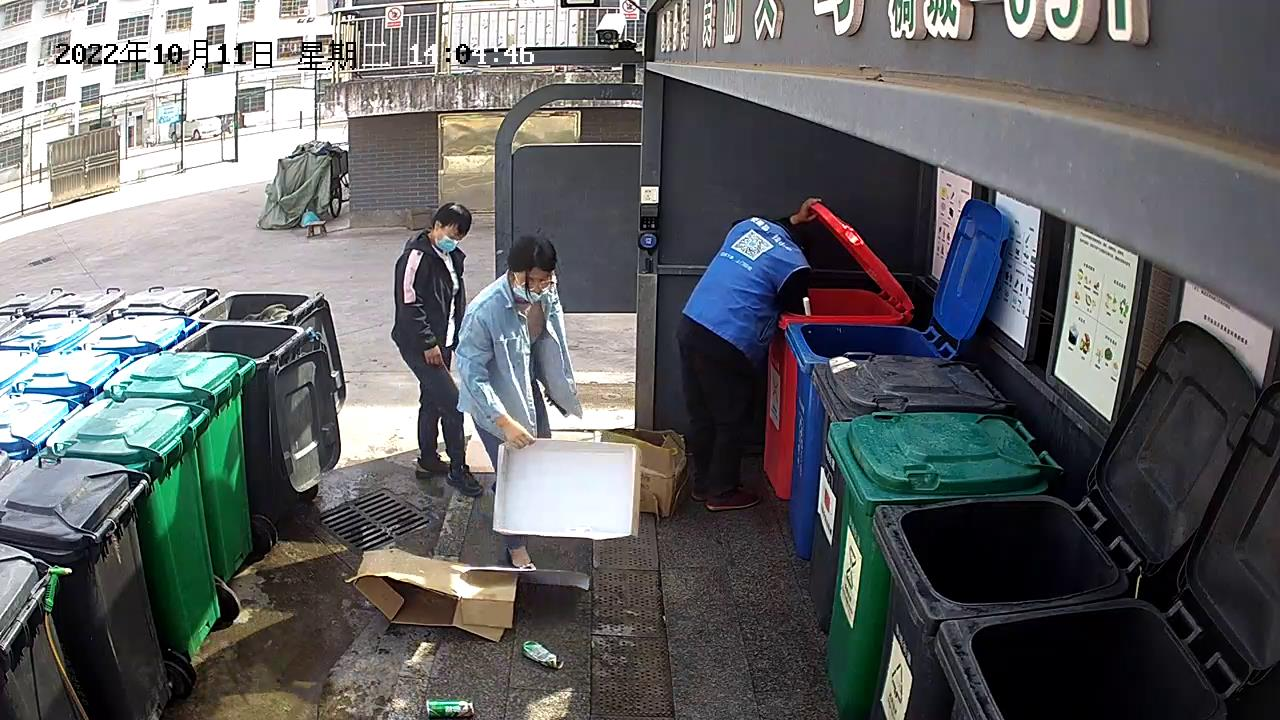lvzhipin: (520, 634, 567, 668), (426, 695, 477, 720)
person: (389, 198, 489, 502)
worker: (673, 193, 827, 511)
zhizhipin: (453, 232, 583, 475), (343, 545, 592, 645), (489, 425, 690, 544)
